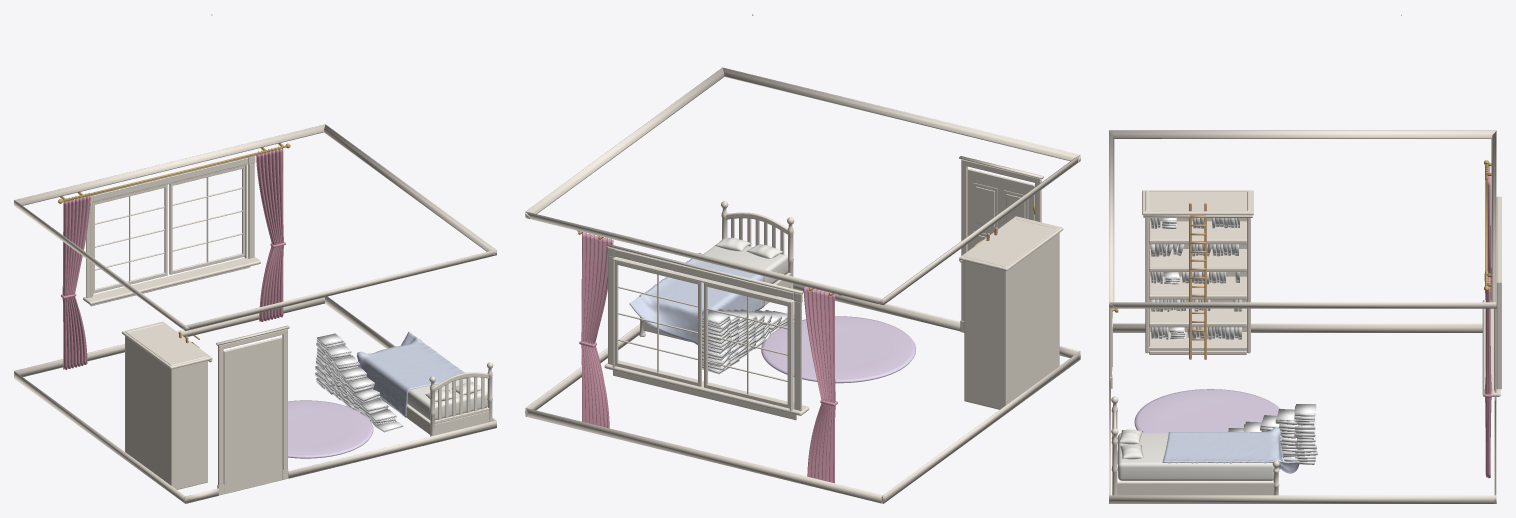
Rendered from LobbyKit2.fbx.
3 renders of one model, left to right at view 1: azimuth 30°, elevation 25°; view 2: azimuth 150°, elevation 25°; view 3: azimuth 270°, elevation 25°, orthographic. The views are drawn at different scales.
Parts seen in each view (by area): view 1: LK_Trim_Paint, LK_Shelf_Paint, LK_Door_Paint, LK_Window_Paint, LK_Rug_Fur, LK_Bed_Quilt, LK_StairBooks_Pal, LK_CurtainL_Fabric, LK_CurtainR_Fabric, LK_Bed_Paint, LK_Bed_Linen, LK_CurtainRod_Brass; view 2: LK_Trim_Paint, LK_Shelf_Paint, LK_Window_Paint, LK_Rug_Fur, LK_Door_Paint, LK_CurtainR_Fabric, LK_Bed_Quilt, LK_CurtainL_Fabric, LK_StairBooks_Pal, LK_Bed_Paint, LK_Bed_Linen, LK_Pillows_Linen; view 3: LK_Trim_Paint, LK_Shelf_Paint, LK_Rug_Fur, LK_Bed_Quilt, LK_Bed_Linen, LK_ShelfBooks_Pal, LK_Bed_Paint, LK_StairBooks_Pal, LK_Window_Paint, LK_Ladder_Oak, LK_CurtainL_Fabric, LK_Pillows_Linen (+2 smaller).
Part boxes in pixels (bbox=[...]): LK_Trim_Paint: bbox=[14, 124, 496, 503]; LK_Shelf_Paint: bbox=[121, 321, 212, 489]; LK_Door_Paint: bbox=[216, 325, 289, 495]; LK_Window_Paint: bbox=[83, 155, 260, 306]; LK_Rug_Fur: bbox=[288, 400, 373, 458]; LK_Bed_Quilt: bbox=[357, 332, 466, 417]; LK_StairBooks_Pal: bbox=[315, 333, 403, 432]; LK_CurtainL_Fabric: bbox=[256, 148, 285, 321]; LK_CurtainR_Fabric: bbox=[61, 195, 90, 369]; LK_Bed_Paint: bbox=[380, 338, 493, 436]; LK_Bed_Linen: bbox=[407, 378, 487, 420]; LK_CurtainRod_Brass: bbox=[58, 143, 290, 203]; LK_Trim_Paint: bbox=[525, 67, 1080, 503]; LK_Shelf_Paint: bbox=[959, 216, 1063, 409]; LK_Window_Paint: bbox=[604, 244, 809, 420]; LK_Rug_Fur: bbox=[761, 316, 915, 383]; LK_Door_Paint: bbox=[959, 156, 1043, 332]; LK_CurtainR_Fabric: bbox=[803, 286, 837, 483]; LK_Bed_Quilt: bbox=[629, 253, 764, 344]; LK_CurtainL_Fabric: bbox=[579, 232, 613, 428]; LK_StairBooks_Pal: bbox=[697, 309, 794, 374]; LK_Bed_Paint: bbox=[639, 201, 794, 341]; LK_Bed_Linen: bbox=[703, 246, 787, 283]; LK_Pillows_Linen: bbox=[715, 237, 783, 258]; LK_Trim_Paint: bbox=[1109, 130, 1496, 503]; LK_Shelf_Paint: bbox=[1142, 190, 1253, 354]; LK_Rug_Fur: bbox=[1134, 389, 1280, 432]; LK_Bed_Quilt: bbox=[1162, 427, 1299, 473]; LK_Bed_Linen: bbox=[1118, 433, 1274, 480]; LK_ShelfBooks_Pal: bbox=[1151, 218, 1241, 339]; LK_Bed_Paint: bbox=[1111, 396, 1279, 495]; LK_StairBooks_Pal: bbox=[1228, 404, 1317, 464]; LK_Window_Paint: bbox=[1482, 196, 1501, 400]; LK_Ladder_Oak: bbox=[1189, 203, 1206, 359]; LK_CurtainL_Fabric: bbox=[1484, 273, 1492, 478]; LK_Pillows_Linen: bbox=[1118, 429, 1143, 459].
Bounding box in the file's own units: 32000 × 35180 × 30900.
